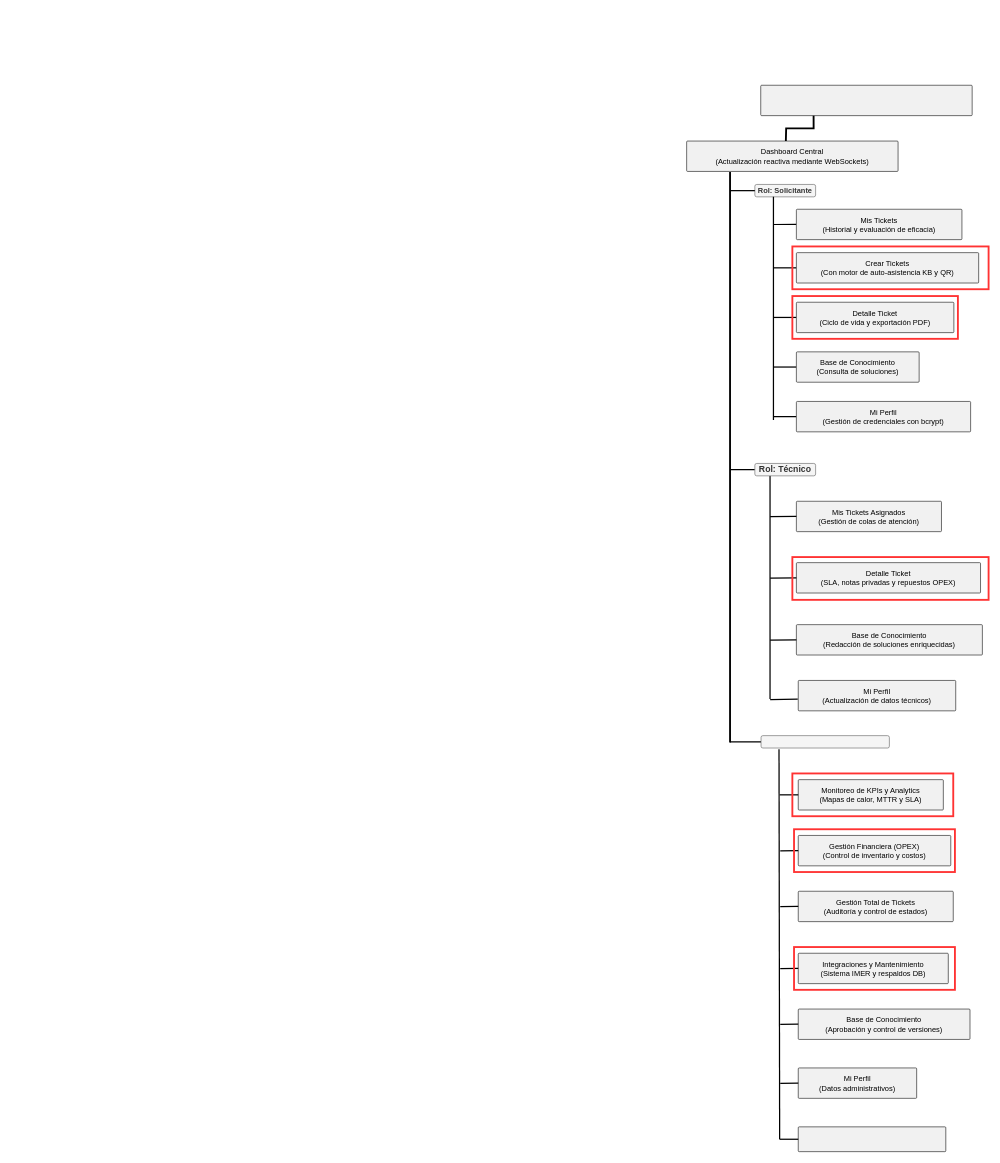
This 1000x1163 diagram has some shape labels left out. Each missing label, with the box of its shape:
[Raíz] Pantalla de Login (Autenticación base, Recuperación y 2FA): (760, 85, 972, 116)
Configuración Avanzada (Roles RBAC y logs inmutables): (798, 1126, 946, 1152)
Rol: Administrador / Jefatura: (760, 735, 889, 748)
